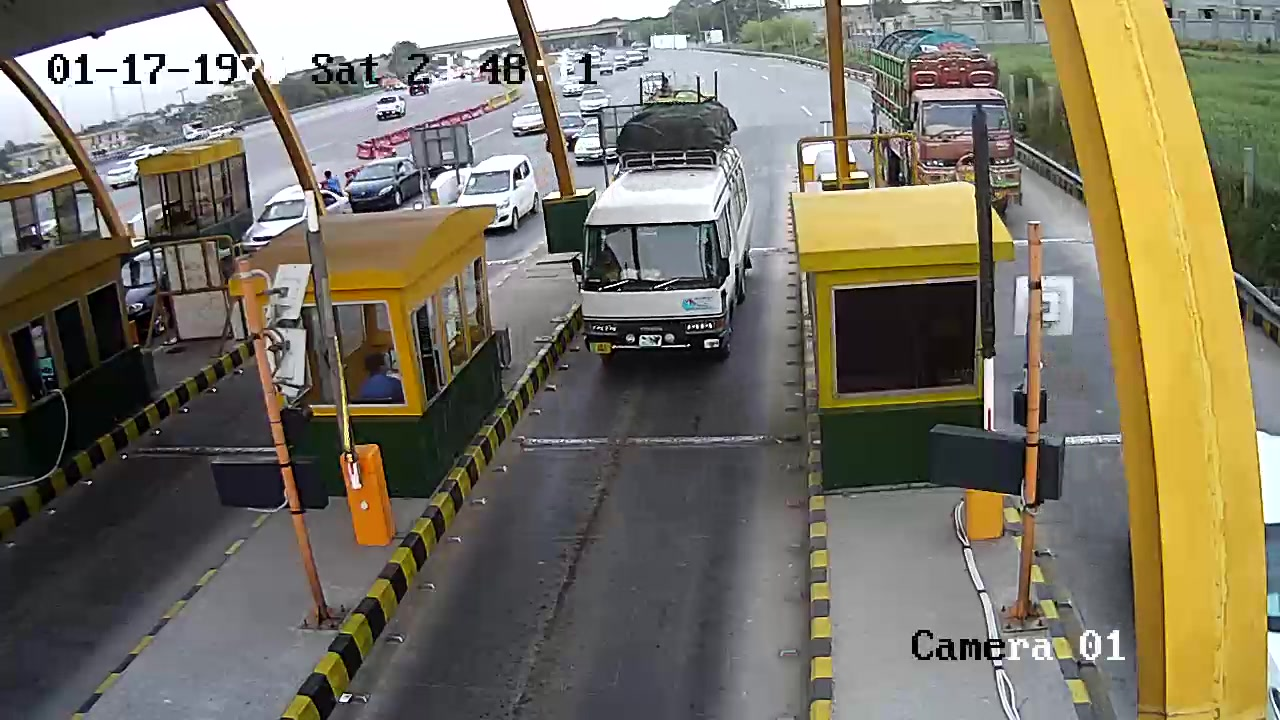F3: (574, 71, 757, 371)
